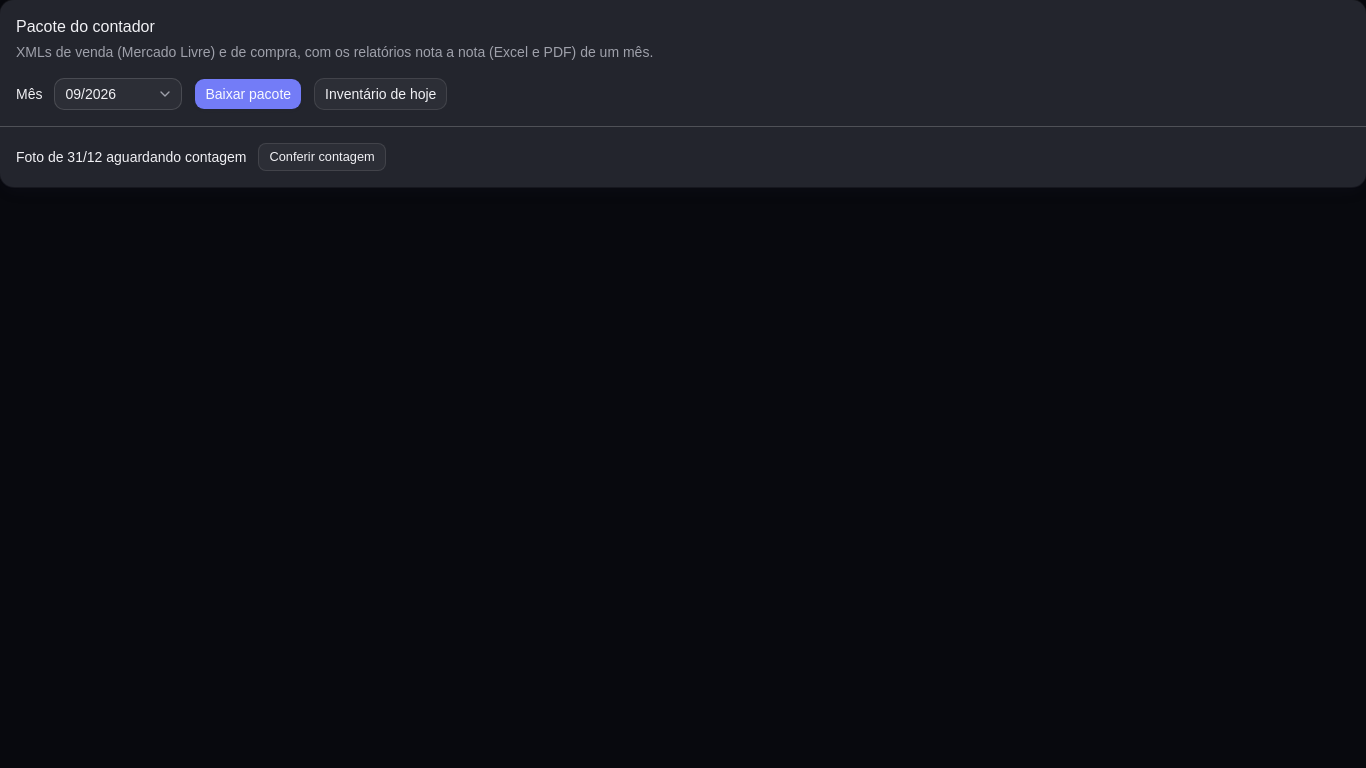
Test: CardPacoteContador › inventário (ADR-0181 Plano 2b-2) › foto aberta: aviso e botão Conferir contagem
Expected: the text "Foto de 31/12 aguardando contagem" is shown, left=16, top=147, right=246, bottom=167
Click the button "Conferir contagem" at (322, 157), box left=258, top=143, right=386, bottom=171
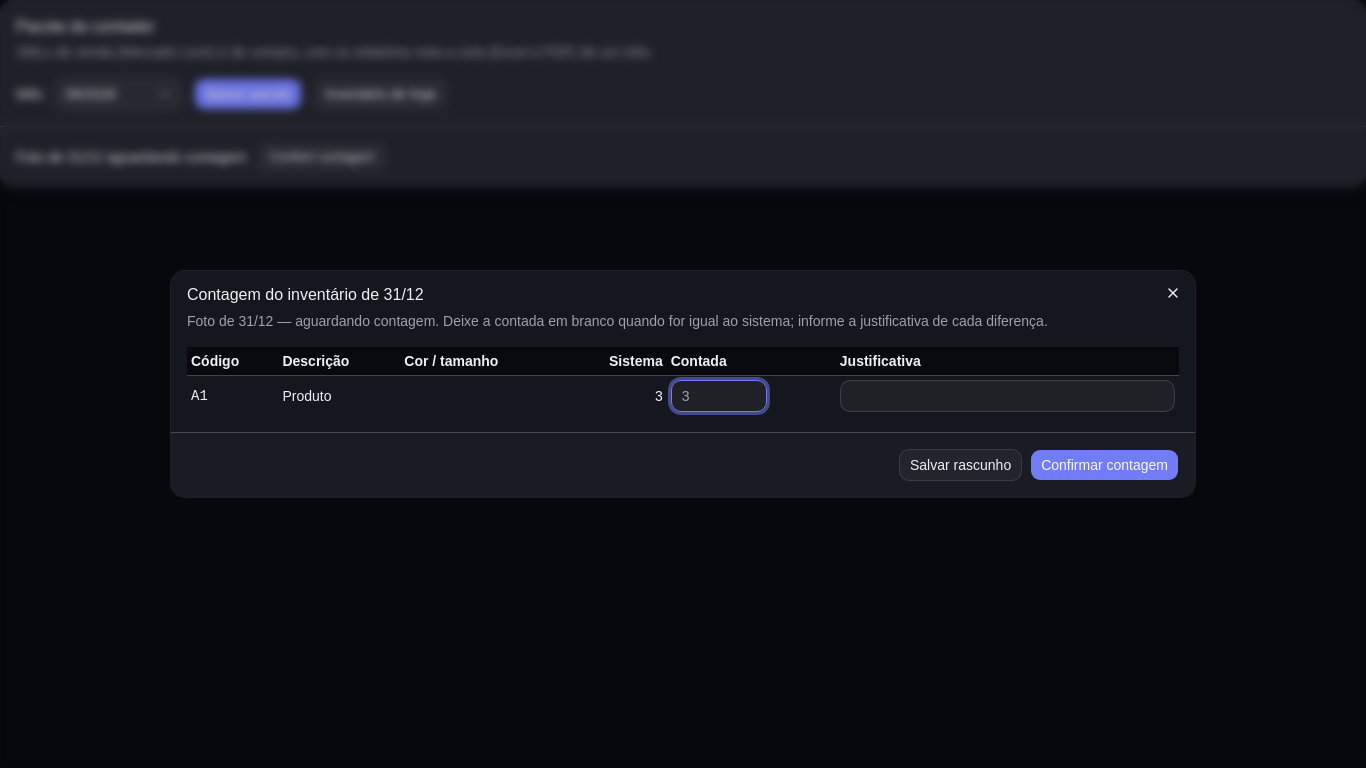
Expected: the heading "Contagem do inventário de 31/12" is shown, left=187, top=286, right=424, bottom=303
